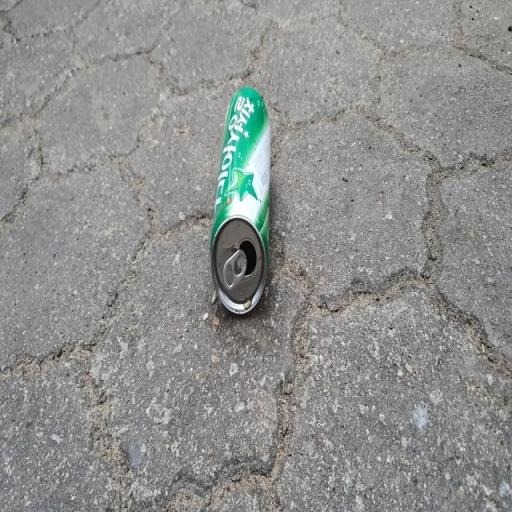metal: (197, 79, 287, 332)
